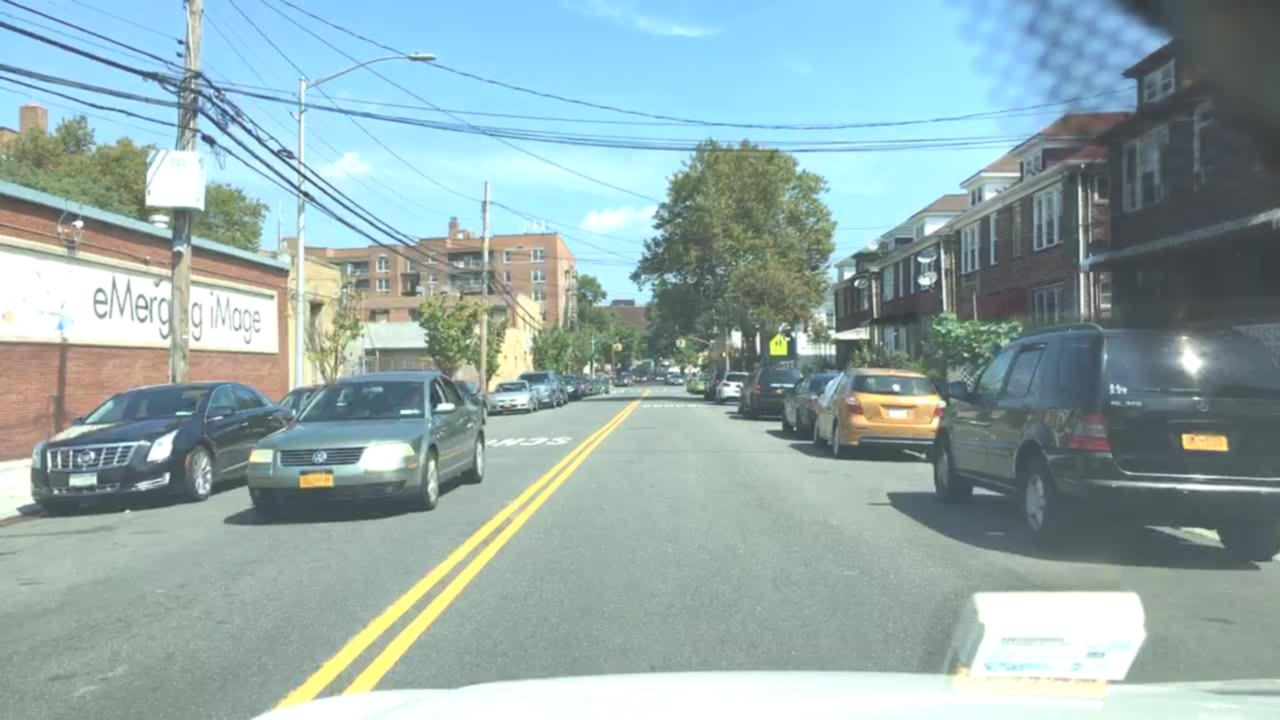Volkswagen: (307, 444, 332, 469)
